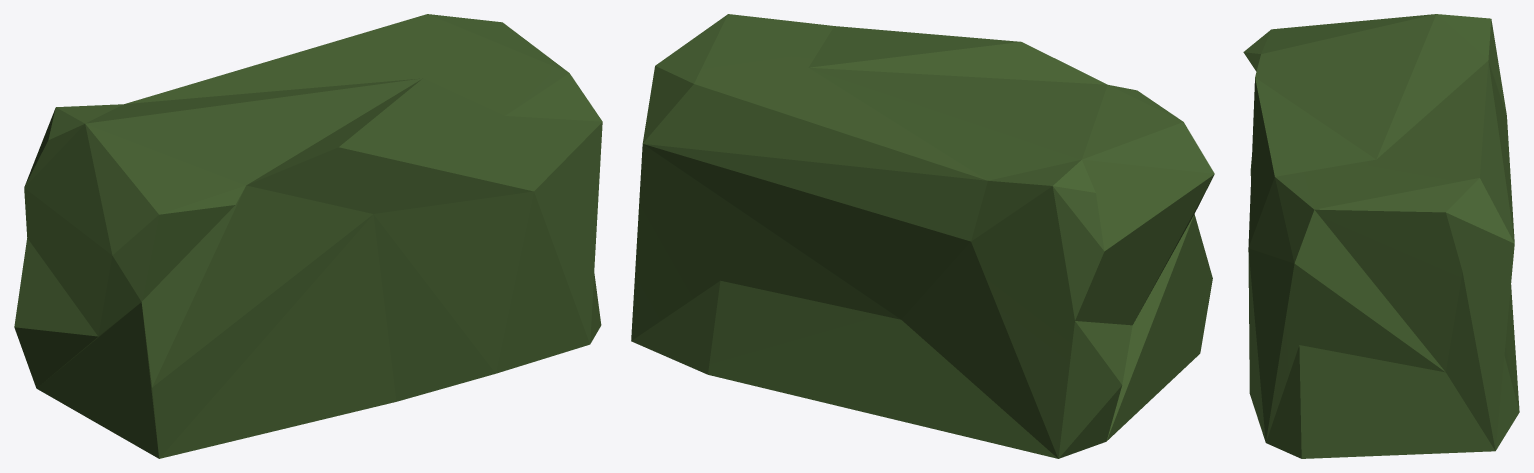
The model's file is SM_bush_04.glb.
3 views of the same model, side by side, from view 1: azimuth 30°, elevation 25°; view 2: azimuth 150°, elevation 25°; view 3: azimuth 270°, elevation 25° (orthographic). The views are drawn at different scales.
Parts seen in each view (by area): view 1: SM_bush_04; view 2: SM_bush_04; view 3: SM_bush_04.
Boxes of the visible parts, <box> form: SM_bush_04: <box>14,14,602,458</box>; SM_bush_04: <box>631,14,1214,458</box>; SM_bush_04: <box>1243,14,1519,458</box>.
Size of the model in its own units: 2.04 by 1.08 by 1.04.
Materials: 1 (1 with a texture image).
